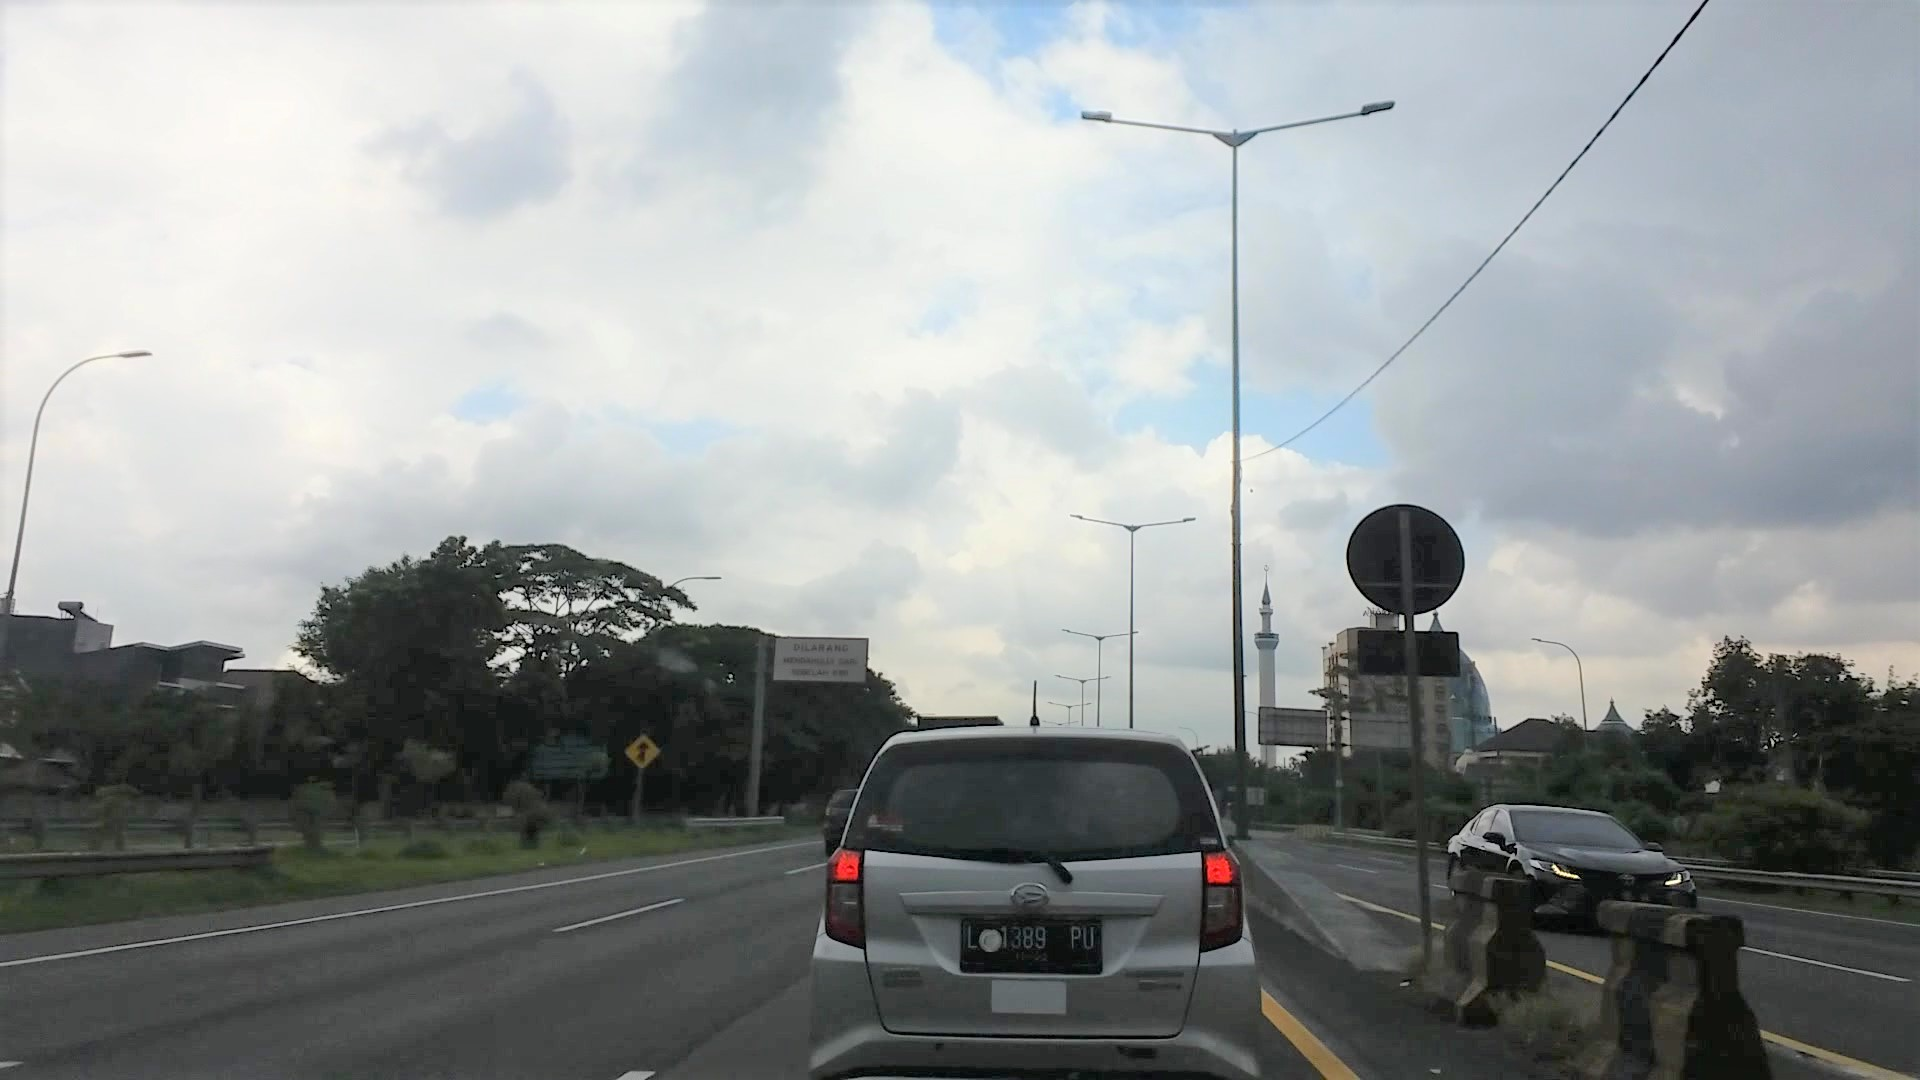plate_positive: (961, 915, 1102, 975)
